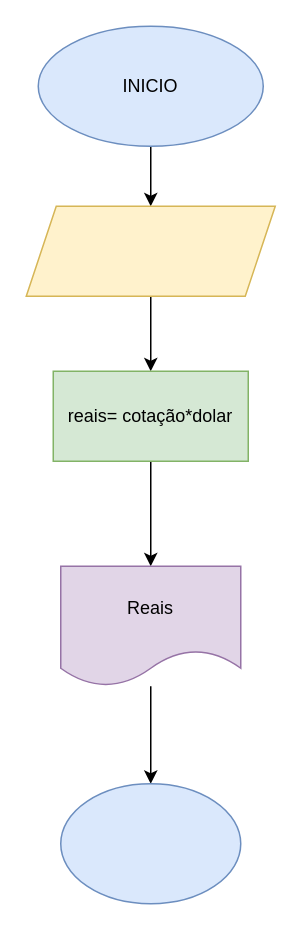
Some shapes in this 302 by 930 pixel diagram are drawn without their labels. The box of each missing label's shape, as (x1, y1, x2, y2) in pixels:
FIM: (59, 782, 241, 904)
Reais, Dolar: (25, 205, 275, 296)
